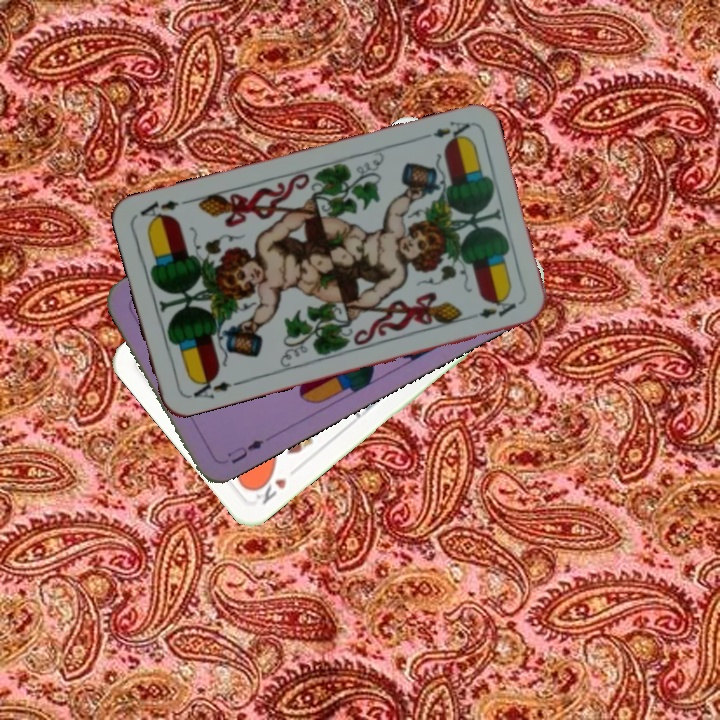EA: (415, 117, 473, 146), (184, 372, 234, 401)
EU: (223, 435, 266, 466)
HK: (249, 469, 290, 507)
